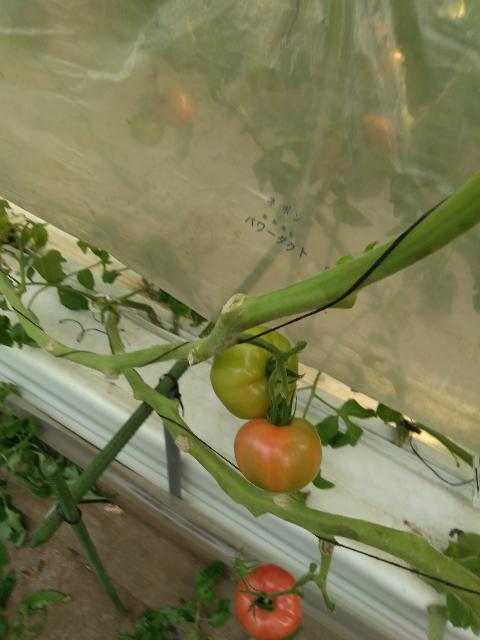b_fully_ripened: (235, 563, 302, 640)
b_green: (210, 326, 299, 419)
b_half_ripened: (234, 415, 323, 493)
